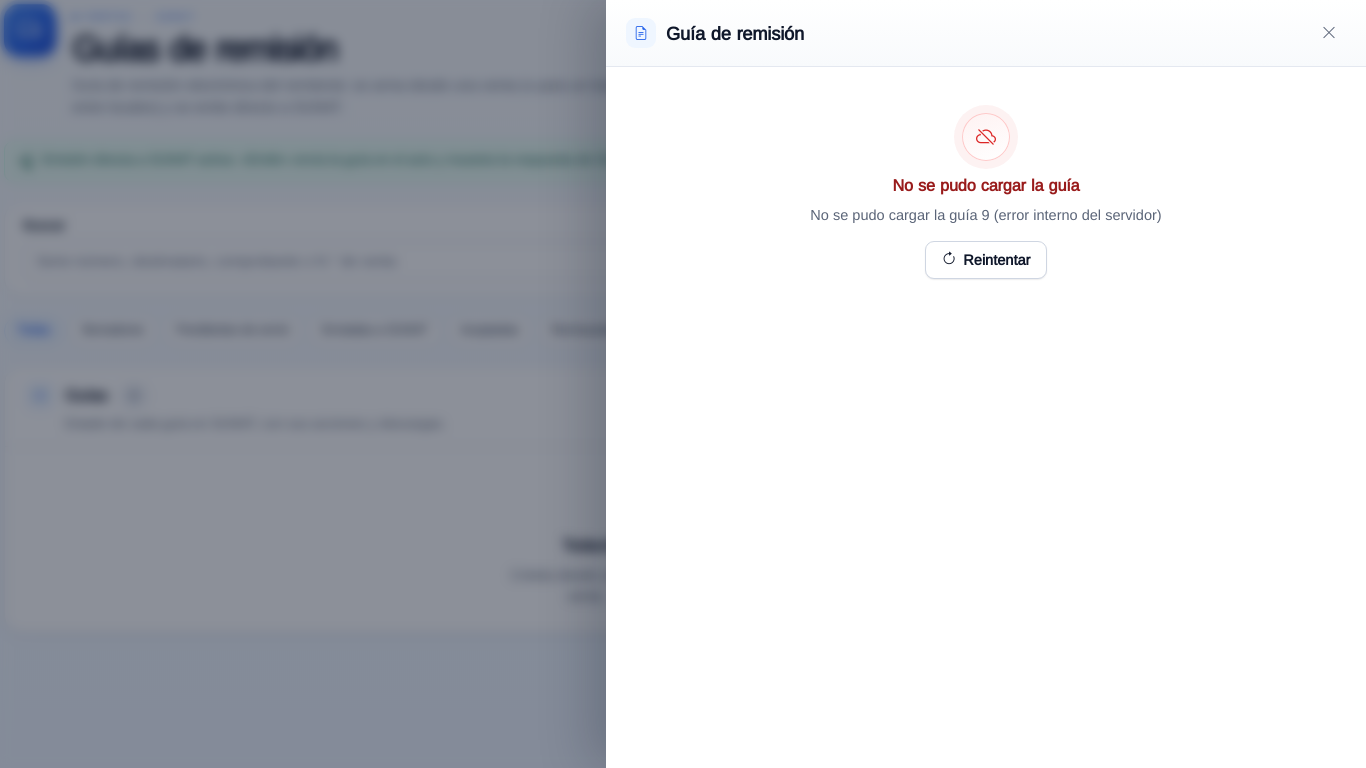
Test case: GuiasRemisionComponent › ?guia=ID abre el detalle; si la carga falla se ve el error con «Reintentar»
The width and height of the screenshot is (1366, 768).
Expected: the message shows "No se pudo cargar la guía", left=892, top=174, right=1080, bottom=195
Click the button "Reintentar". click: (986, 260)
box: left=925, top=241, right=1047, bottom=279
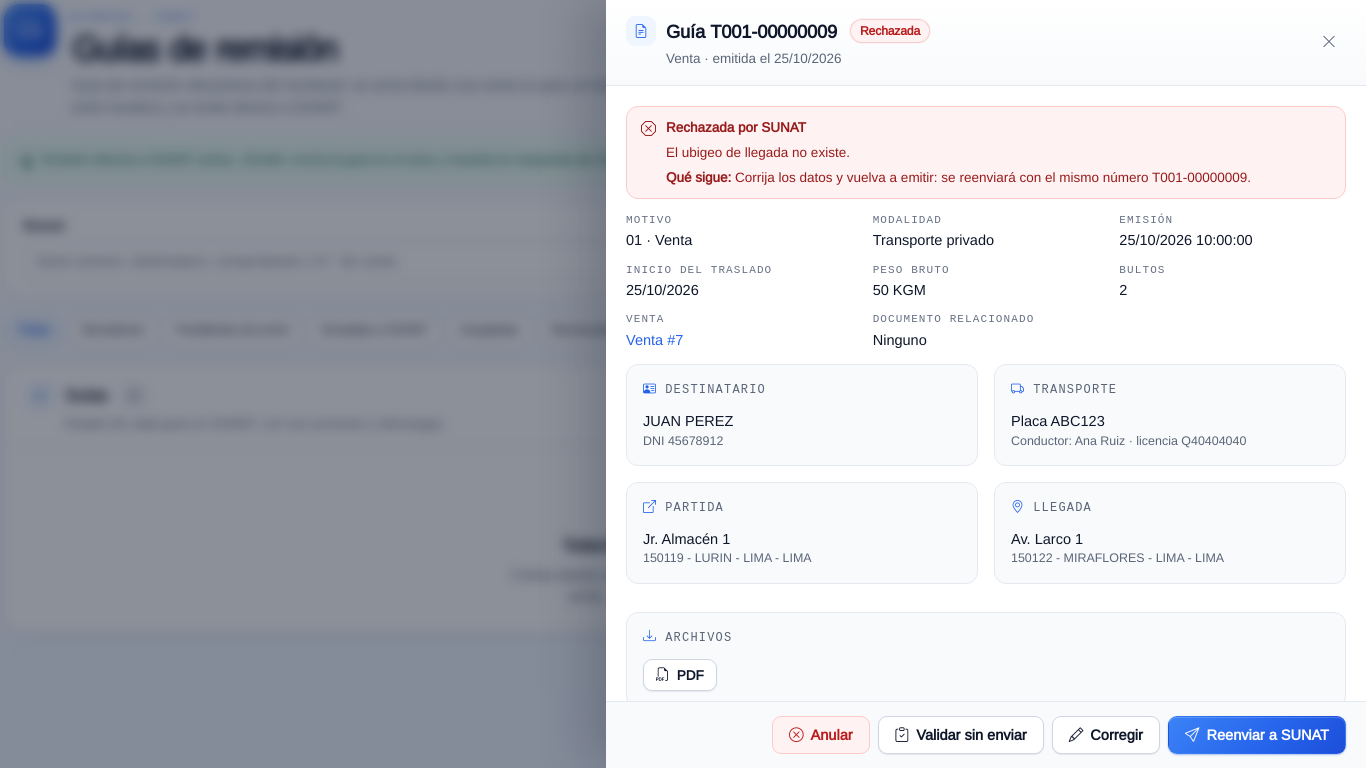
Expected: the text "Rechazada por SUNAT" is shown, left=666, top=118, right=806, bottom=134
Expected: the text "se reenviará con el mismo número T001-00000009" is shown, left=731, top=169, right=1251, bottom=185
